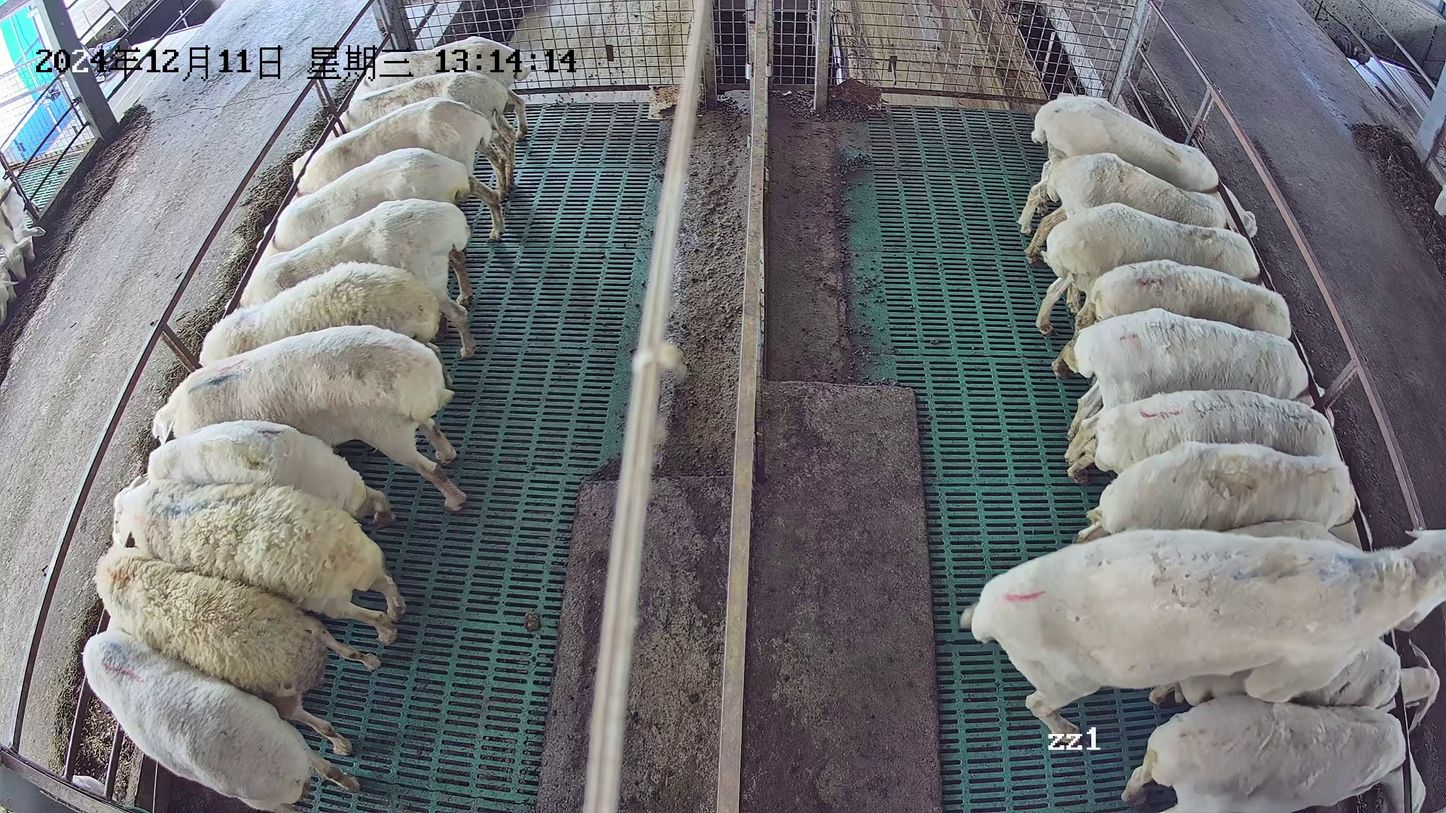Smounting: (960, 527, 1446, 746)
mounted: (1146, 637, 1441, 737)
